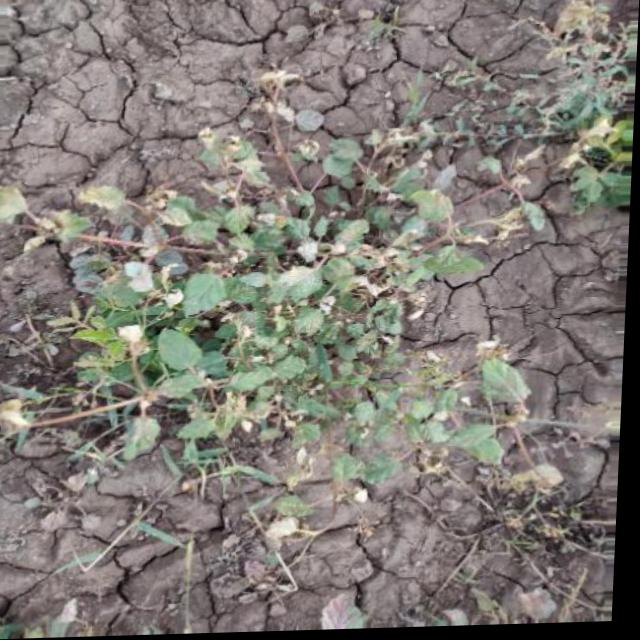weed: (8, 94, 540, 512)
